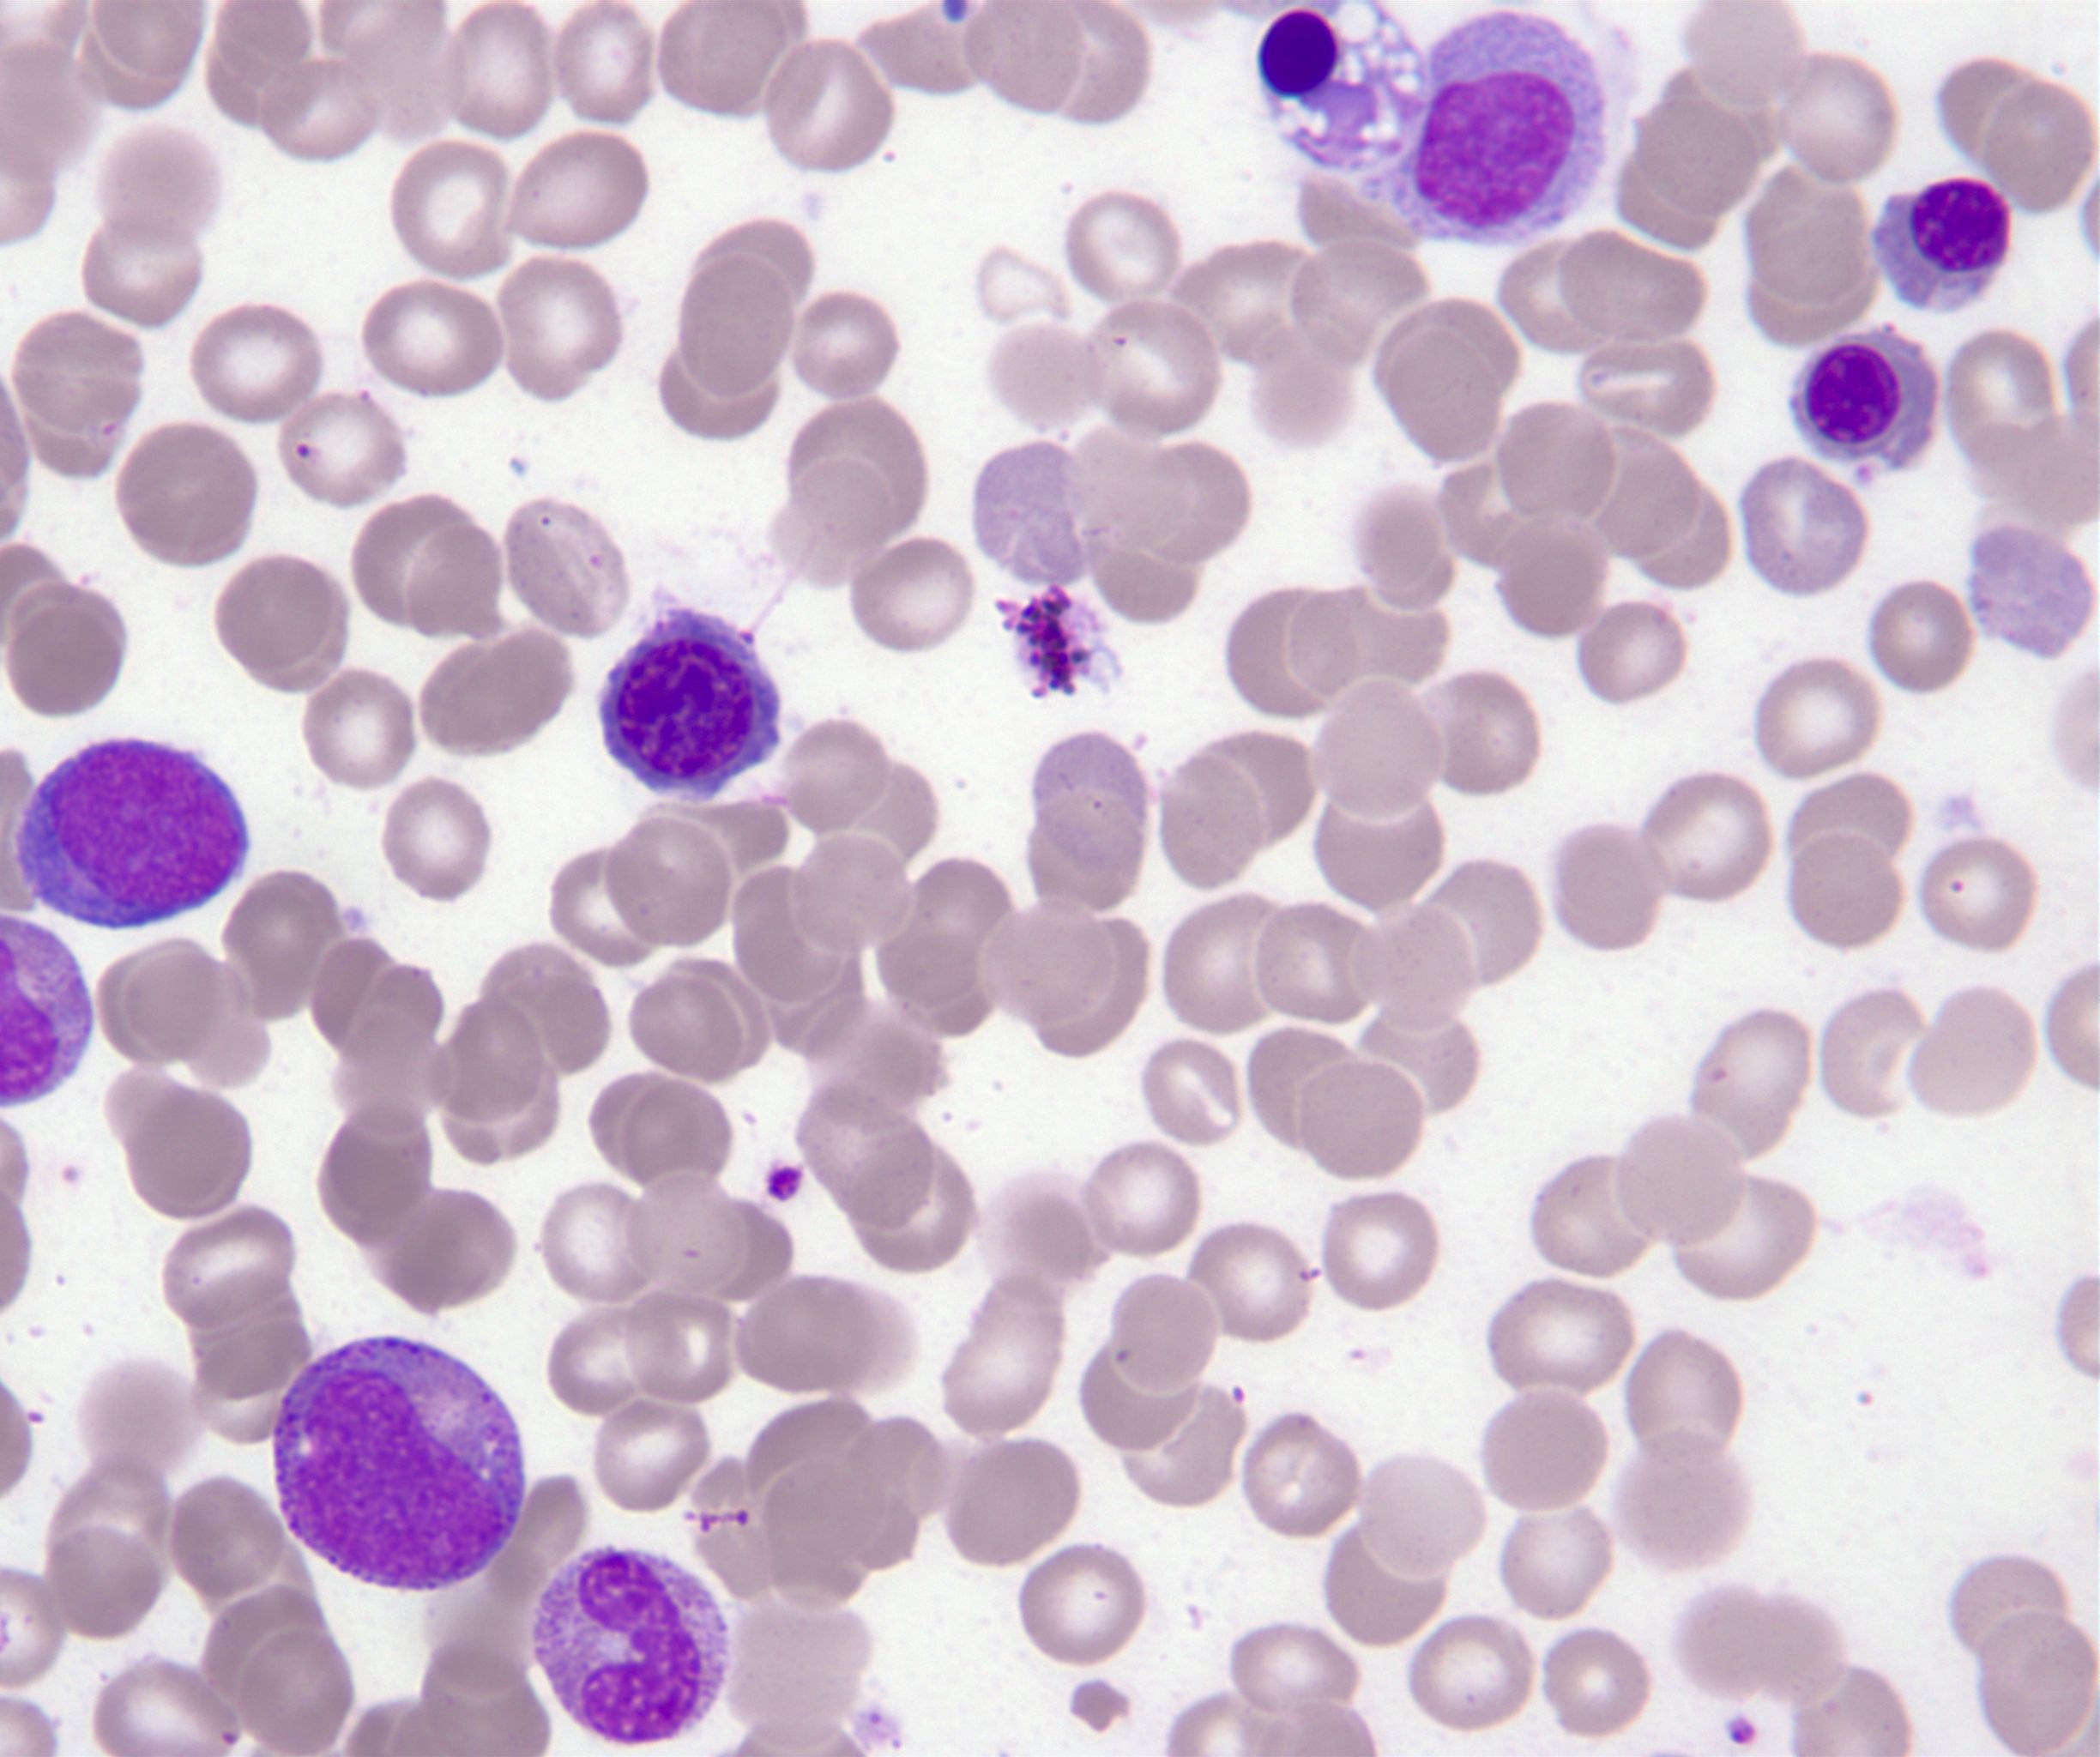1: (1362, 10, 1603, 246), (16, 738, 246, 930)
23: (597, 609, 780, 799)
24: (1790, 328, 1934, 466), (1877, 180, 2008, 312)
3: (274, 1338, 525, 1590)
5: (535, 1549, 729, 1745)
x: (1259, 2, 1430, 171), (0, 916, 92, 1110)
